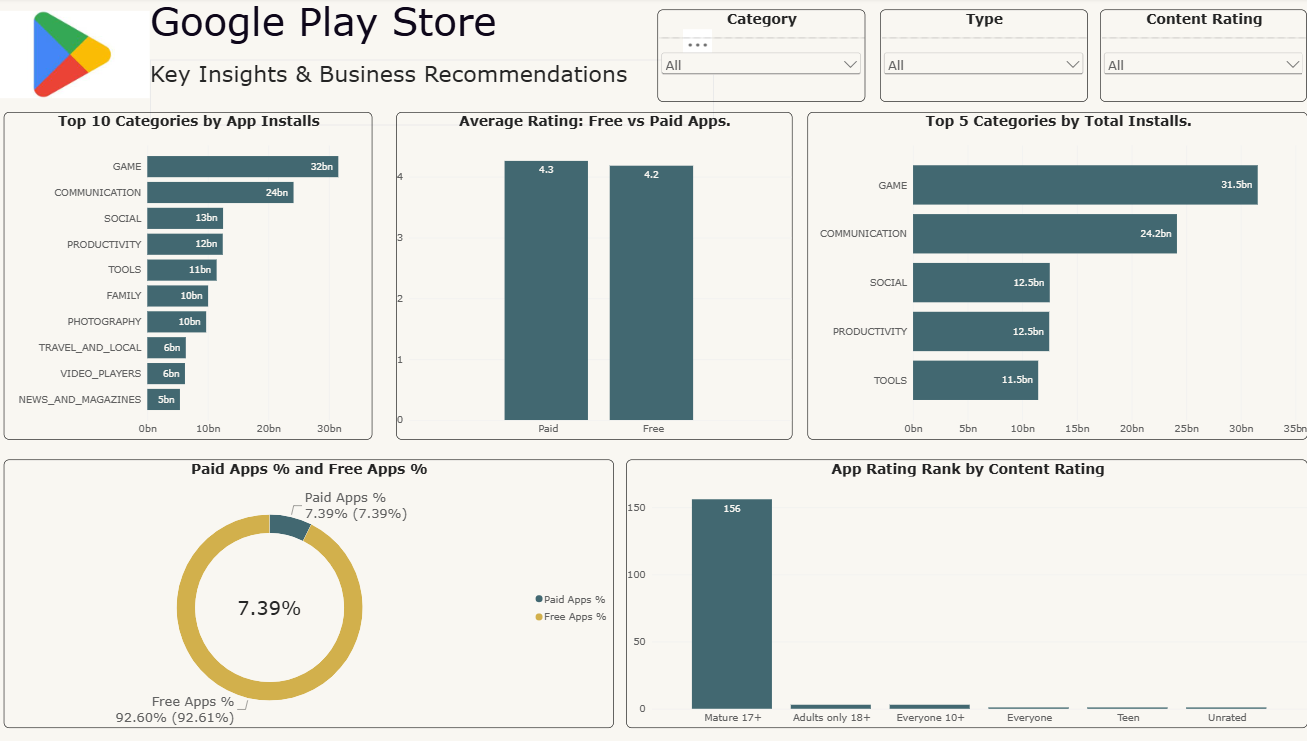

The page's visual inventory and layout, read from the dashboard file:
{"tool":"powerbi","page":{"name":"5.Key Insights & Business Recommendations","canvas":[1920,1080],"ordinal":4},"visuals":[{"type":"textbox","box":[224.4,90.5,816.2,95.9],"z":0},{"type":"clusteredBarChart","title":"Top 5 Categories by Total Installs.","fields":{"Category":["googleplaystore.Category"],"Y":["Sum(googleplaystore.Installs)"]},"box":[1176.3,166.5,725.7,474.1],"z":1000},{"type":"clusteredColumnChart","title":"Average Rating: Free vs Paid Apps.","fields":{"Category":["googleplaystore.Type"],"Y":["Avg(googleplaystore.Rating)"]},"box":[580.9,166.5,573.7,474.1],"z":2000},{"type":"clusteredColumnChart","fields":{"Category":["googleplaystore.Content Rating"],"Y":["googleplaystore.App Rating Rank"]},"box":[913.9,669.6,988.1,389.1],"z":3000},{"type":"donutChart","fields":{"Y":["googleplaystore.Paid Apps %","googleplaystore.Free Apps %"]},"box":[12.7,669.6,883.1,389.1],"z":4000},{"type":"clusteredBarChart","title":"Top 10 Categories by App Installs","fields":{"Category":["googleplaystore.Category"],"Y":["googleplaystore.Total Installs"]},"box":[12.7,166.5,533.8,474.1],"z":5000},{"type":"textbox","box":[224.4,0,780,90.5],"z":6000},{"type":"image","box":[0,0,224.4,166.5],"z":7000},{"type":"slicer","title":"Type","fields":{"Values":["googleplaystore.Type"]},"box":[1281.2,18.1,300.4,133.9],"z":7001},{"type":"slicer","title":"Category","fields":{"Values":["googleplaystore.Category"]},"box":[959.1,18.1,300.4,133.9],"z":7002},{"type":"slicer","title":"Content Rating","fields":{"Values":["googleplaystore.Content Rating"]},"box":[1599.7,18.1,300.4,133.9],"z":7003}]}

Visuals, with their boxes in screenshot pixels (x1, y1, x2, y2), scaled from the page's 1920x1080 canvas onto the 1307x741 screenshot:
textbox: [153, 62, 708, 128]
"Top 5 Categories by Total Installs." clusteredBarChart: [801, 114, 1295, 440]
"Average Rating: Free vs Paid Apps." clusteredColumnChart: [395, 114, 786, 440]
clusteredColumnChart - googleplaystore.Content Rating x googleplaystore.App Rating Rank: [622, 459, 1295, 726]
donutChart - googleplaystore.Paid Apps % x googleplaystore.Free Apps %: [9, 459, 610, 726]
"Top 10 Categories by App Installs" clusteredBarChart: [9, 114, 372, 440]
textbox: [153, 0, 684, 62]
image: [0, 0, 153, 114]
"Type" slicer: [872, 12, 1077, 104]
"Category" slicer: [653, 12, 857, 104]
"Content Rating" slicer: [1089, 12, 1293, 104]
